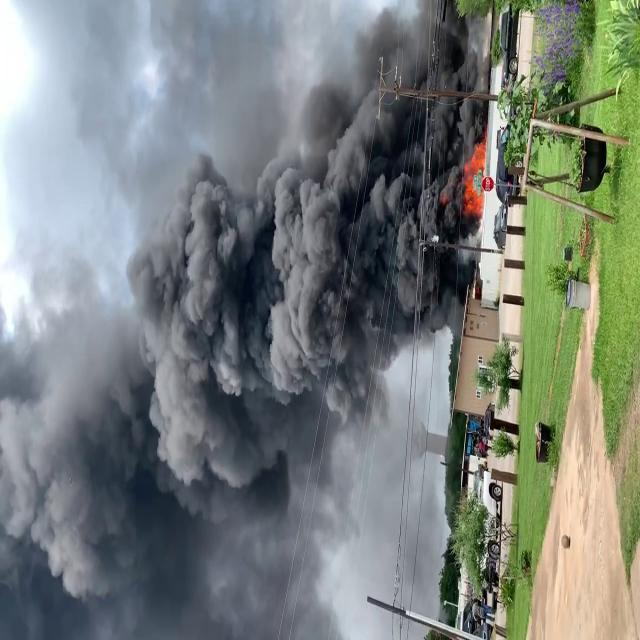Fire: (461, 136, 487, 222)
Smoke: (1, 14, 412, 629)
